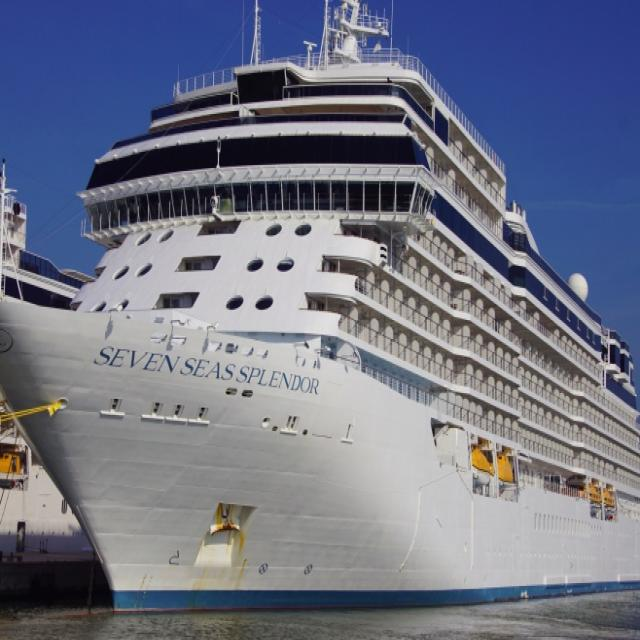cruises: (1, 1, 640, 626)
